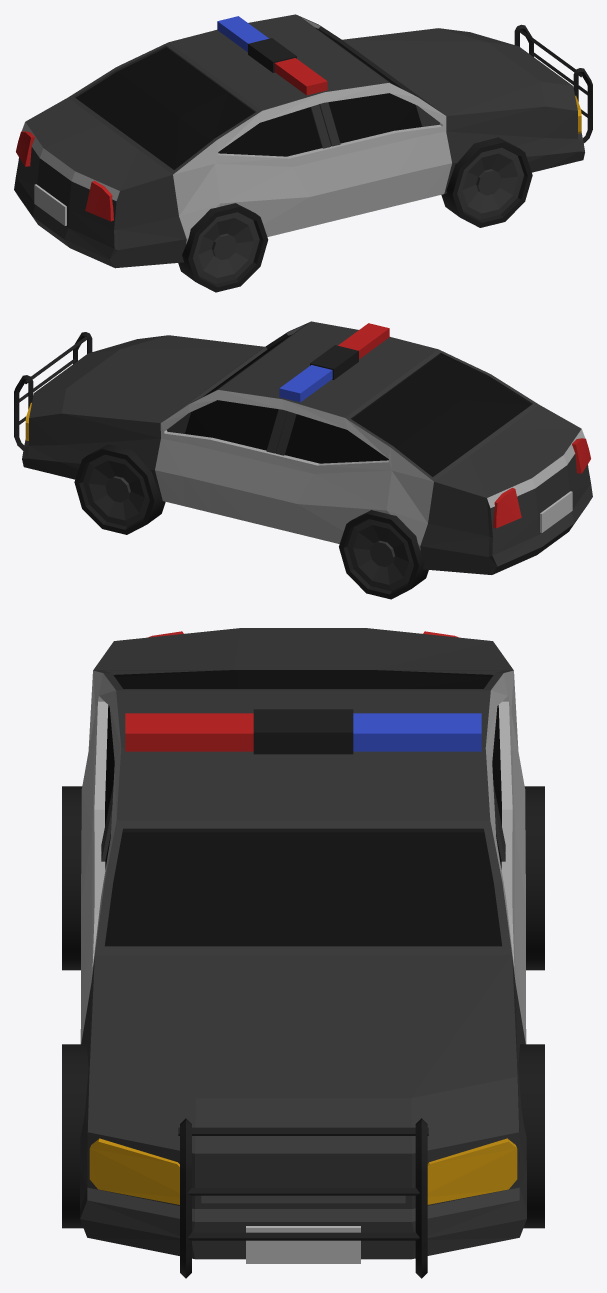
Rendered from SM_policecar.fbx.
3 views of the same model, one above another, from view 1: azimuth 30°, elevation 25°; view 2: azimuth 150°, elevation 25°; view 3: azimuth 270°, elevation 25° (orthographic). The views are drawn at different scales.
Parts seen in each view (by area): view 1: Object32261; view 2: Object32261; view 3: Object32261.
Part boxes in pixels (box(x1,y1,x2,y2)): Object32261: box(14, 14, 592, 292); Object32261: box(14, 321, 592, 599); Object32261: box(62, 628, 544, 1278).
Size of the model in its own units: 189 by 59.45 by 76.66.
